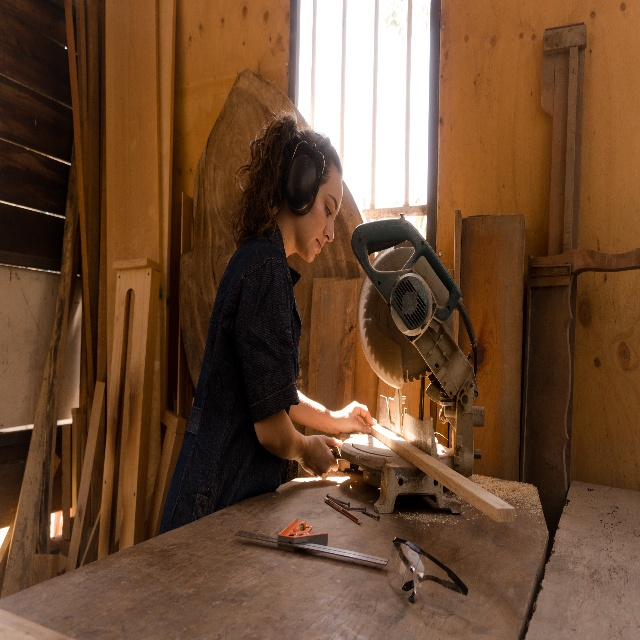Gafas: (390, 534, 468, 616)
Sin_guantes: (299, 434, 342, 476), (332, 401, 377, 436)
